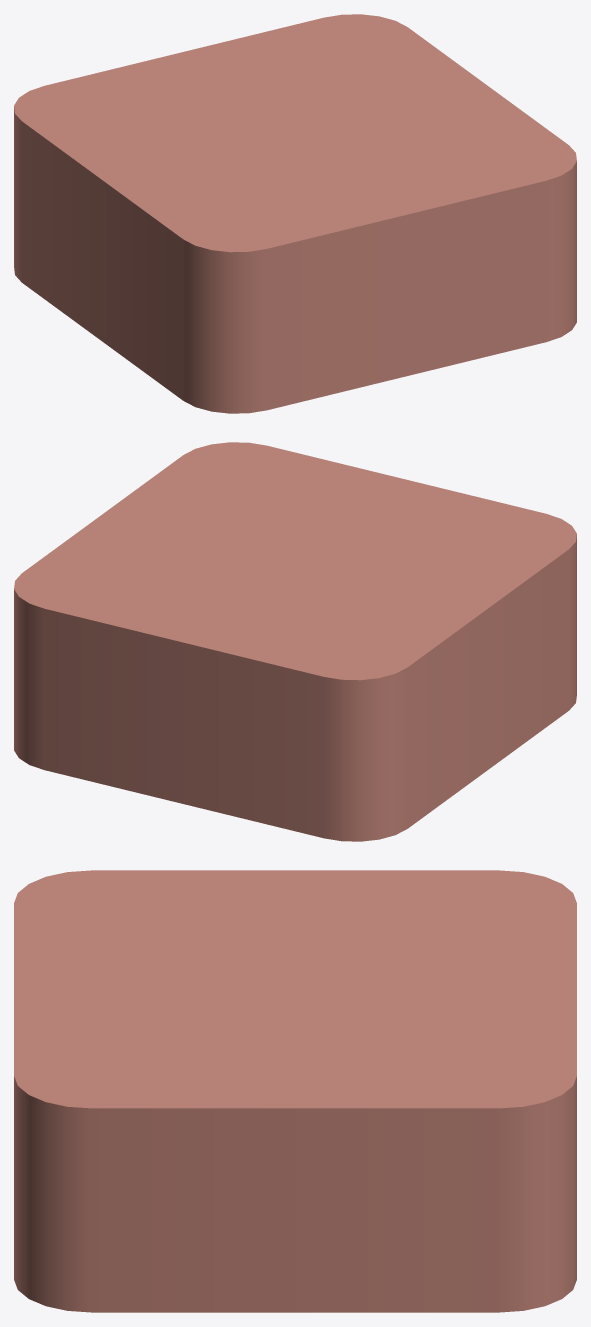
Rendered from RoundedTowerBig01_15x15x6.fbx.
3 renders of one model, top to bottom at view 1: azimuth 30°, elevation 25°; view 2: azimuth 150°, elevation 25°; view 3: azimuth 270°, elevation 25°, orthographic. The views are drawn at different scales.
Parts seen in each view (by area): view 1: RoundedTowerBig01.002; view 2: RoundedTowerBig01.002; view 3: RoundedTowerBig01.002.
Part boxes in pixels (x1,y1,x2,y2): RoundedTowerBig01.002: [14, 14, 576, 413]; RoundedTowerBig01.002: [14, 442, 576, 841]; RoundedTowerBig01.002: [14, 870, 576, 1312].
Bounding box in the file's own units: 1500 × 600 × 1500.
